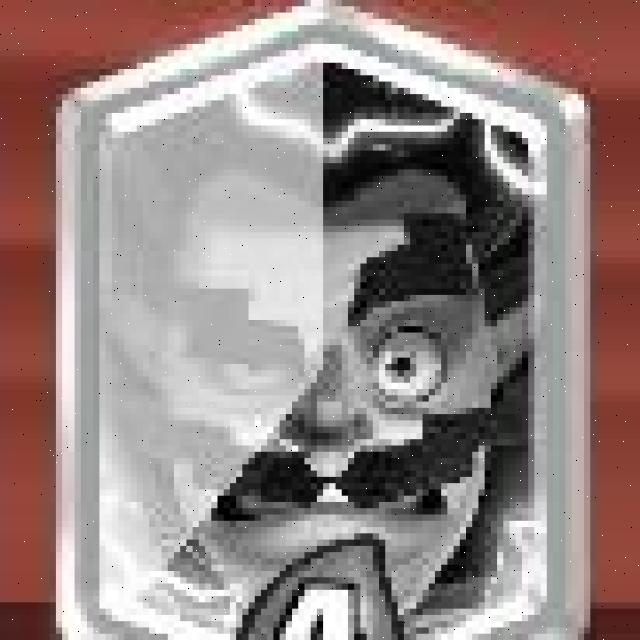Electro_Wizard: (51, 0, 592, 640)
